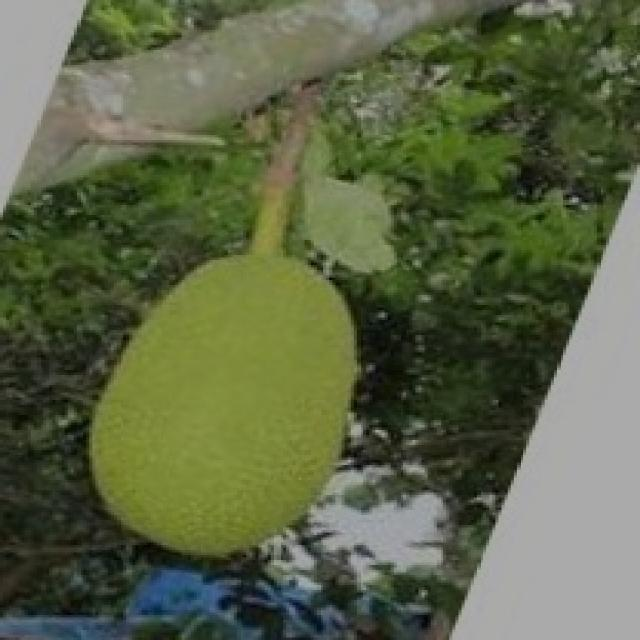Fruit: (55, 225, 403, 595)
